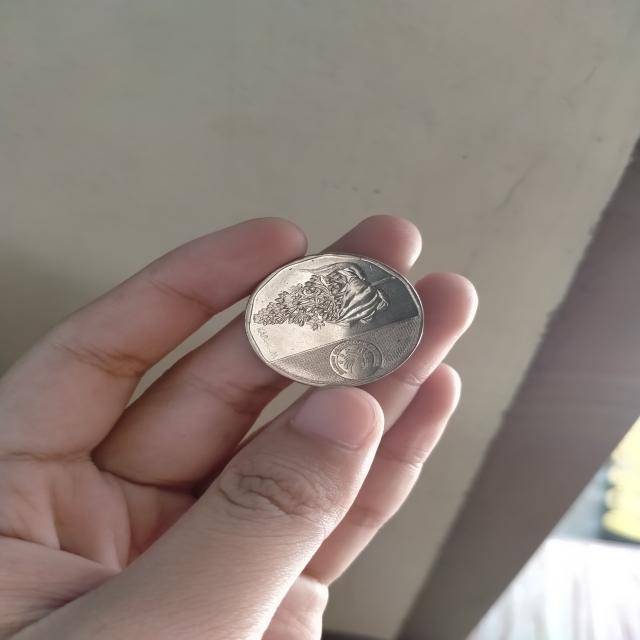10_New_Back: (245, 258, 414, 334)
